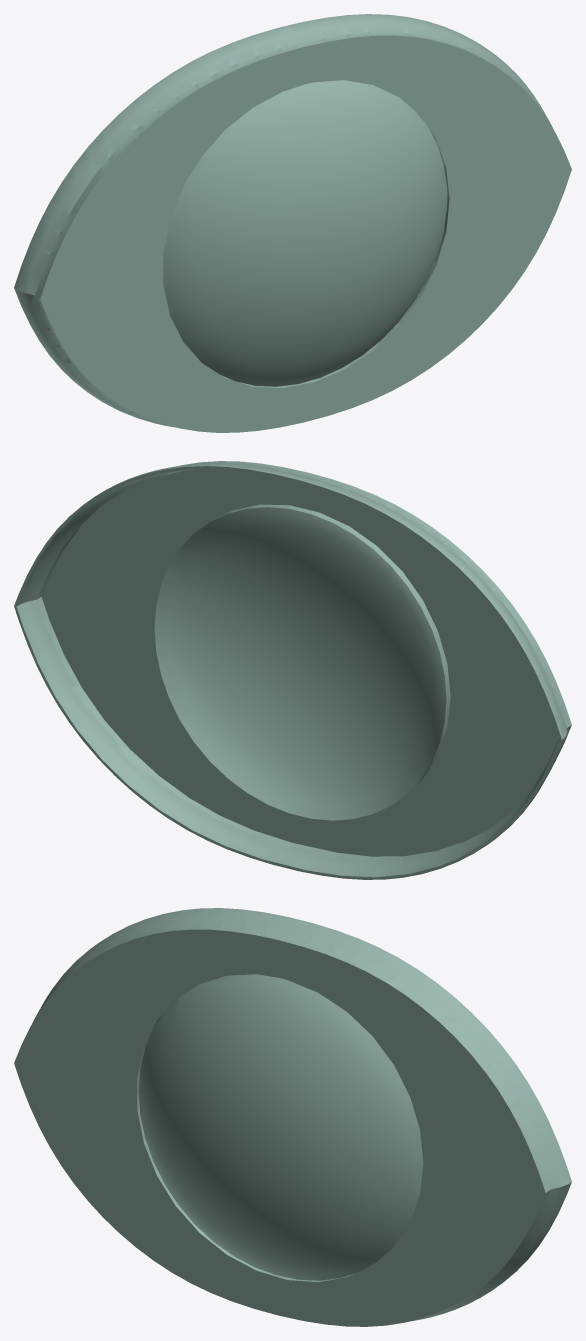
File: TRANSDEC.dae
3 renders of one model, top to bottom at view 1: azimuth 30°, elevation 25°; view 2: azimuth 150°, elevation 25°; view 3: azimuth 330°, elevation 25°, orthographic.
Parts seen in each view (by area): view 1: Transdec; view 2: Transdec; view 3: Transdec.
Part boxes in pixels (box(x1,y1,x2,y2)): Transdec: box(14, 14, 571, 432); Transdec: box(14, 461, 571, 879); Transdec: box(14, 908, 571, 1326).
Bounding box in the file's own units: 92.3 × 11.9 × 63.
